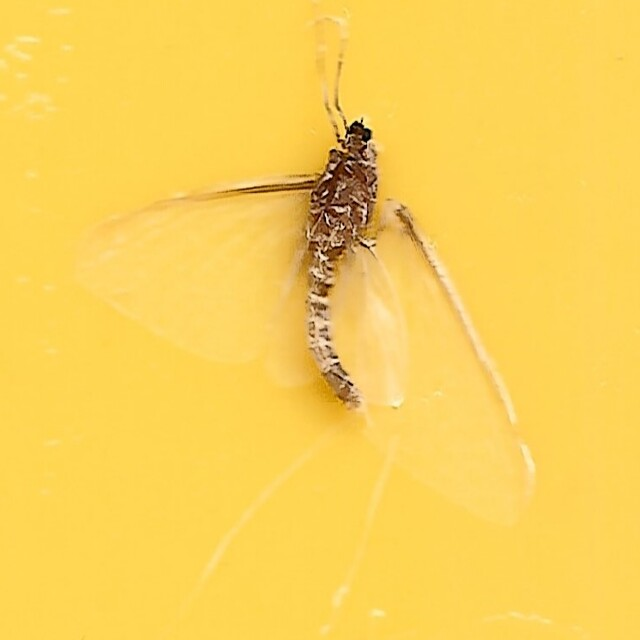Ephemeroptera: (86, 109, 554, 531)
